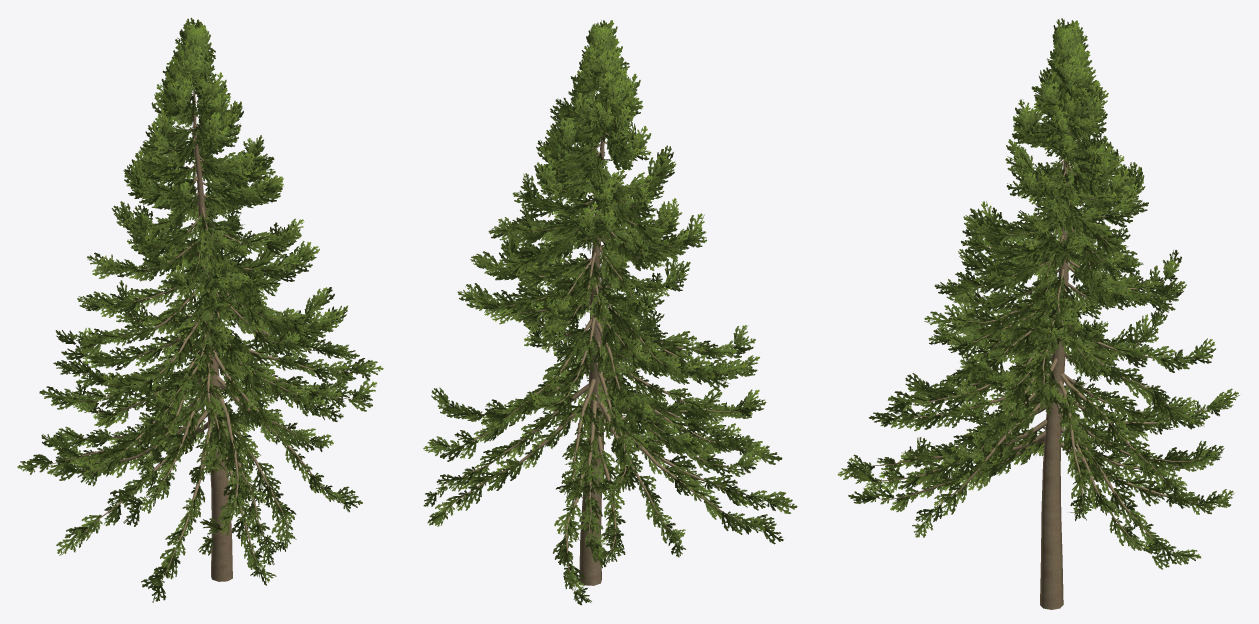
Rendered from pine_large_01.glb.
The picture shows the model from 3 angles, left to right: view 1: azimuth 30°, elevation 25°; view 2: azimuth 150°, elevation 25°; view 3: azimuth 270°, elevation 25°; orthographic projection. The views are drawn at different scales.
Parts seen in each view (by area): view 1: Tree; view 2: Tree; view 3: Tree.
Part boxes in pixels (x1=…): Tree: x1=17, y1=17, x2=383, y2=602; Tree: x1=423, y1=20, x2=797, y2=605; Tree: x1=837, y1=18, x2=1239, y2=609.
Bounding box in the file's own units: 42.03 × 68.52 × 44.28.
Materials: 2 (2 with a texture image).
